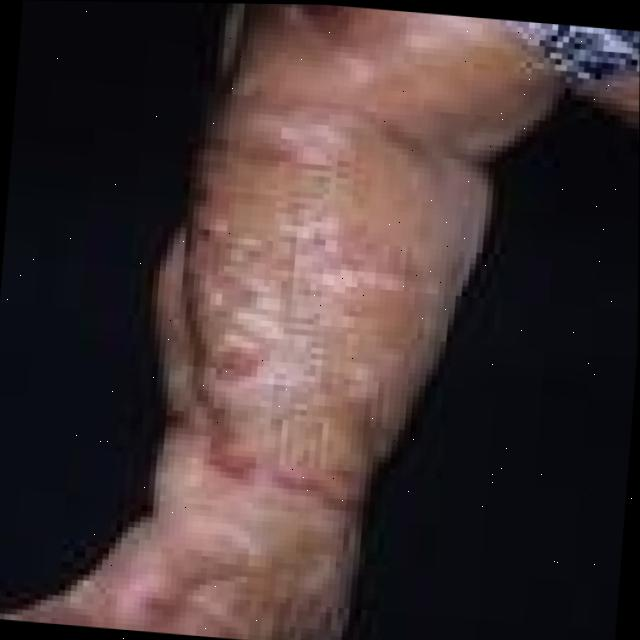Melasma: (156, 81, 382, 640)
